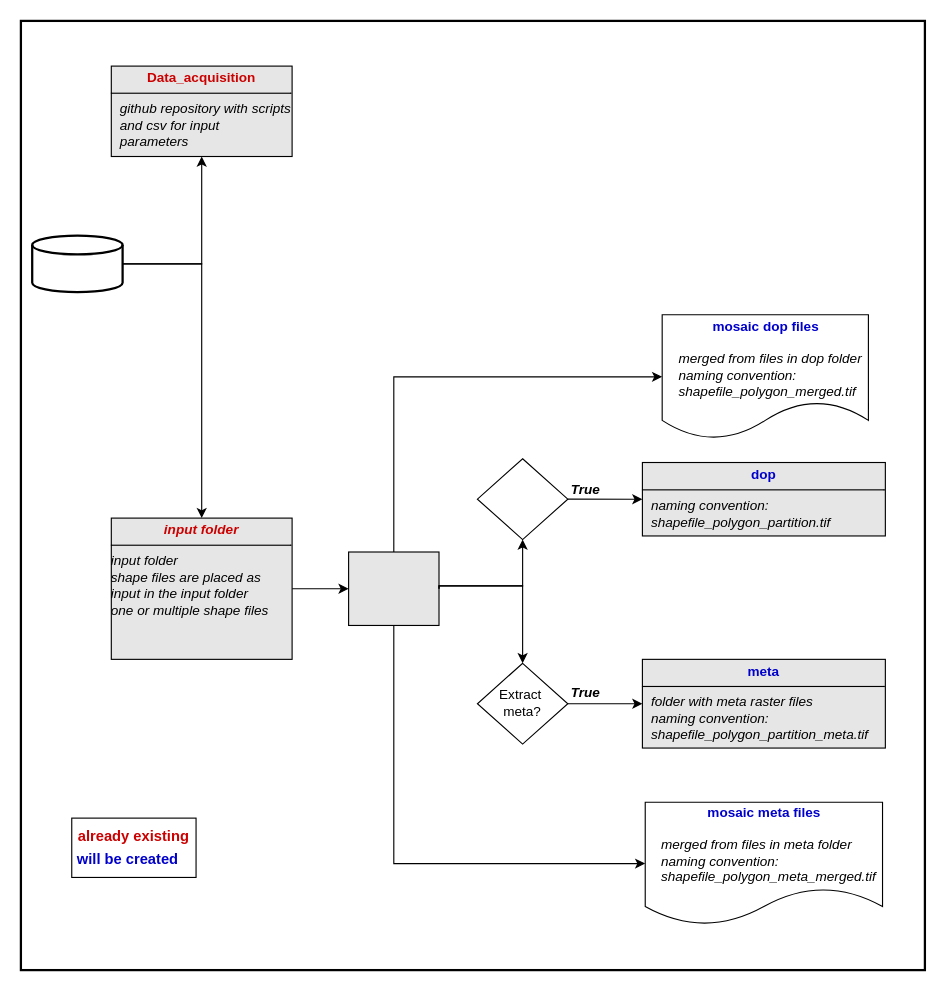
Some shapes in this 945 by 990 pixel diagram are drawn without their labels. Here are the shapes that lost their labels. From the top down, the centre of each, then its label:
the point at 77,263: independent folders
the point at 522,499: Extract DOPs?
the point at 393,588: output_wms output folder
